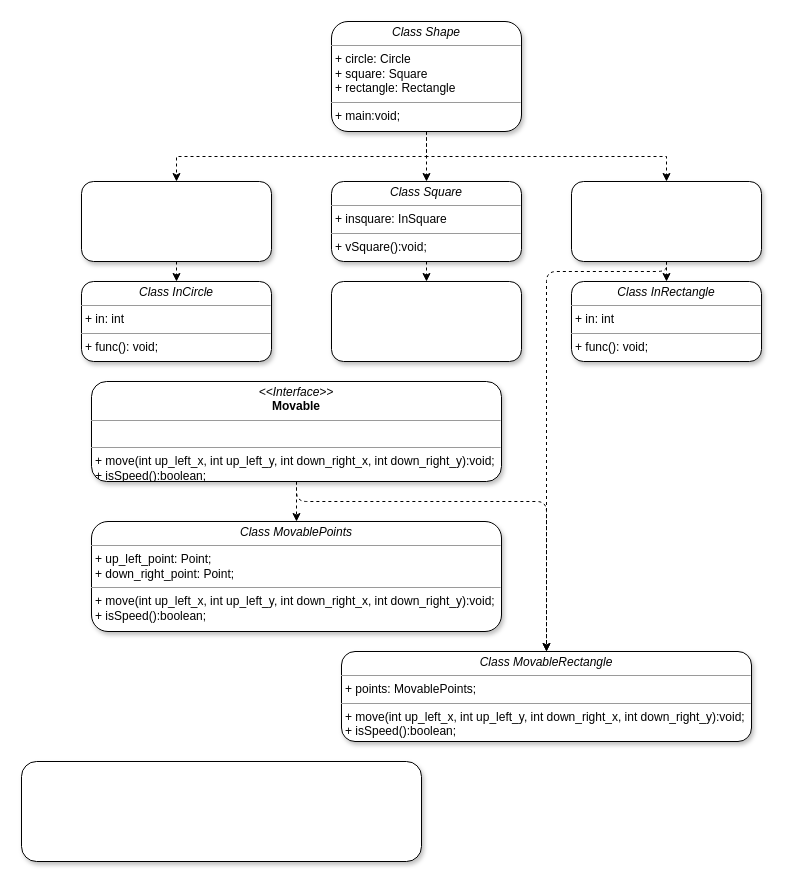
The diagram is 785 pixels wide and 886 high, and some of its shapes have lost their labels. The centre of each missing label's shape, as x and y in pixels:
"Class Circle + incircle: InCircle + vCircle():void;" belongs at (177,222).
"Class InSquare + in: int + func(): void;" belongs at (427,322).
"Class Point + current_x: int; + current_y: int; + last_x: int; + last_y: int;" belongs at (222,812).
"Class Rectangle + inrectangle: InRectangle + vRectangle():void;" belongs at (667,222).
